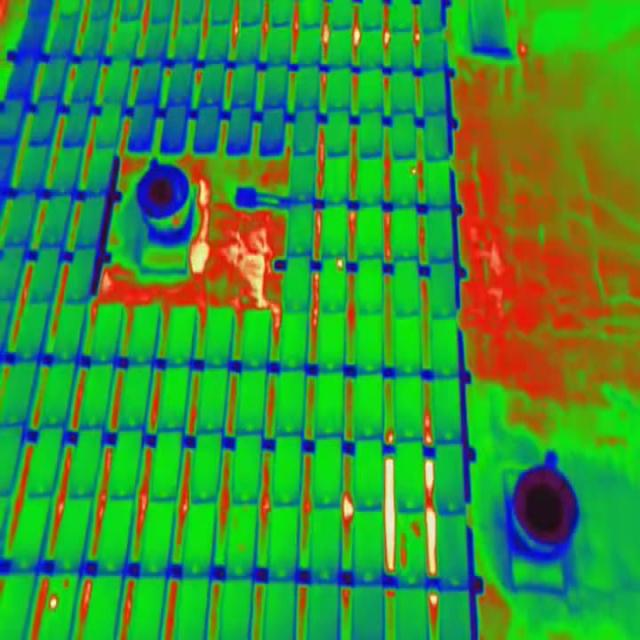Orange-Spots: (399, 532, 408, 569), (411, 519, 422, 538), (48, 596, 58, 612), (62, 579, 70, 590), (337, 258, 344, 270), (410, 166, 417, 177)
